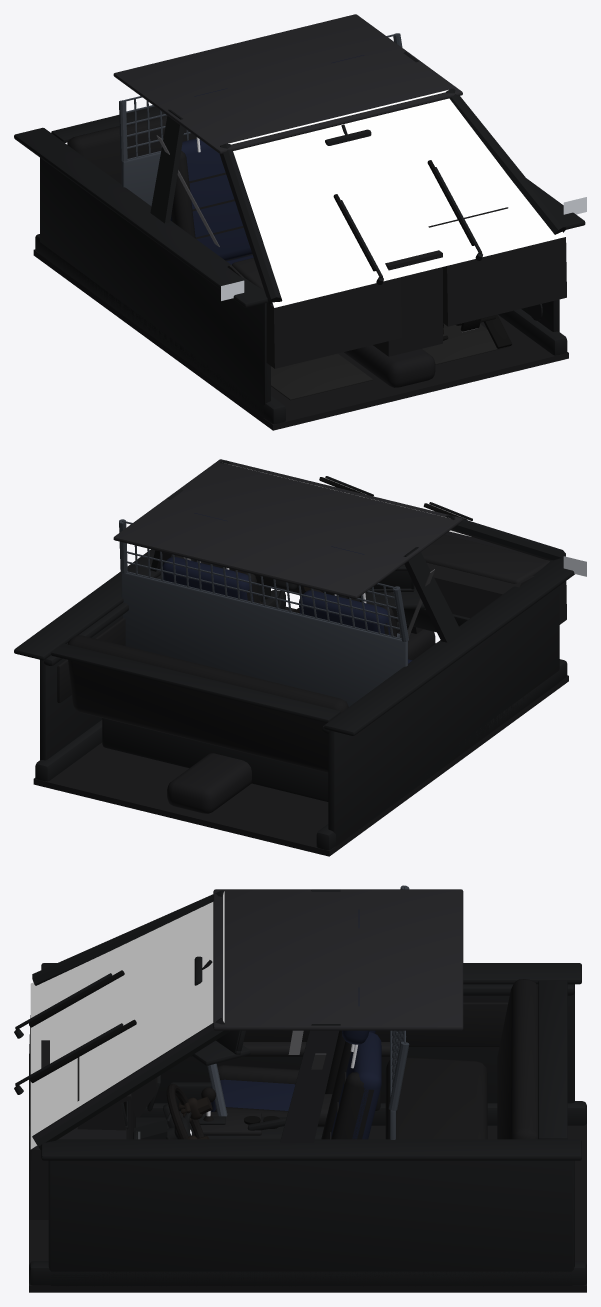
Rendered from interior-police.glb.
The picture shows the model from 3 angles, top to bottom: view 1: azimuth 30°, elevation 25°; view 2: azimuth 150°, elevation 25°; view 3: azimuth 270°, elevation 25°; orthographic projection. The views are drawn at different scales.
Parts seen in each view (by area): view 1: Cabin, RainGlass, Cage, Wiper_A, Wiper_B; view 2: Cabin, Cage, Screen_Aux_Bezel; view 3: Cabin, RainGlass, Wheel, Wiper_A, Wiper_B.
Part boxes in pixels (left/top/right/bottom): Cabin: left=14, top=14, right=586, bottom=430; RainGlass: left=228, top=90, right=566, bottom=307; Cage: left=122, top=33, right=396, bottom=160; Wiper_A: left=427, top=160, right=482, bottom=260; Wiper_B: left=333, top=194, right=383, bottom=284; Cabin: left=14, top=459, right=586, bottom=856; Cage: left=122, top=520, right=401, bottom=639; Screen_Aux_Bezel: left=366, top=566, right=414, bottom=592; Cabin: left=29, top=885, right=586, bottom=1292; RainGlass: left=30, top=891, right=224, bottom=1149; Wheel: left=166, top=1084, right=212, bottom=1139; Wiper_A: left=14, top=1019, right=136, bottom=1094; Wiper_B: left=14, top=970, right=124, bottom=1038.
Size of the model in its own units: 2.03 by 1.2 by 2.36.
